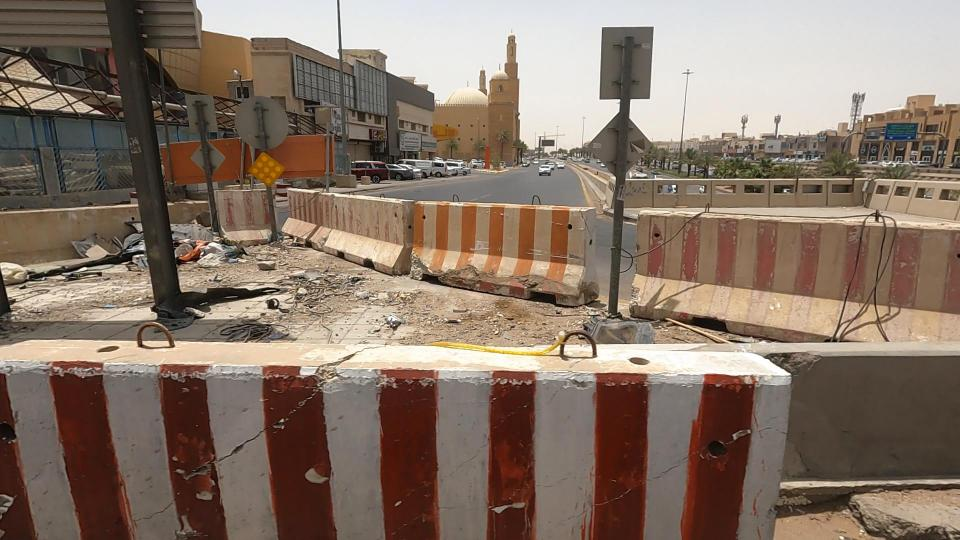CONSTRUCTION_ROAD: (162, 217, 960, 521), (104, 97, 857, 384), (0, 164, 468, 540)
GARBAGE: (50, 180, 252, 324), (124, 184, 310, 312), (285, 248, 462, 359), (13, 197, 158, 315), (181, 271, 335, 369)
